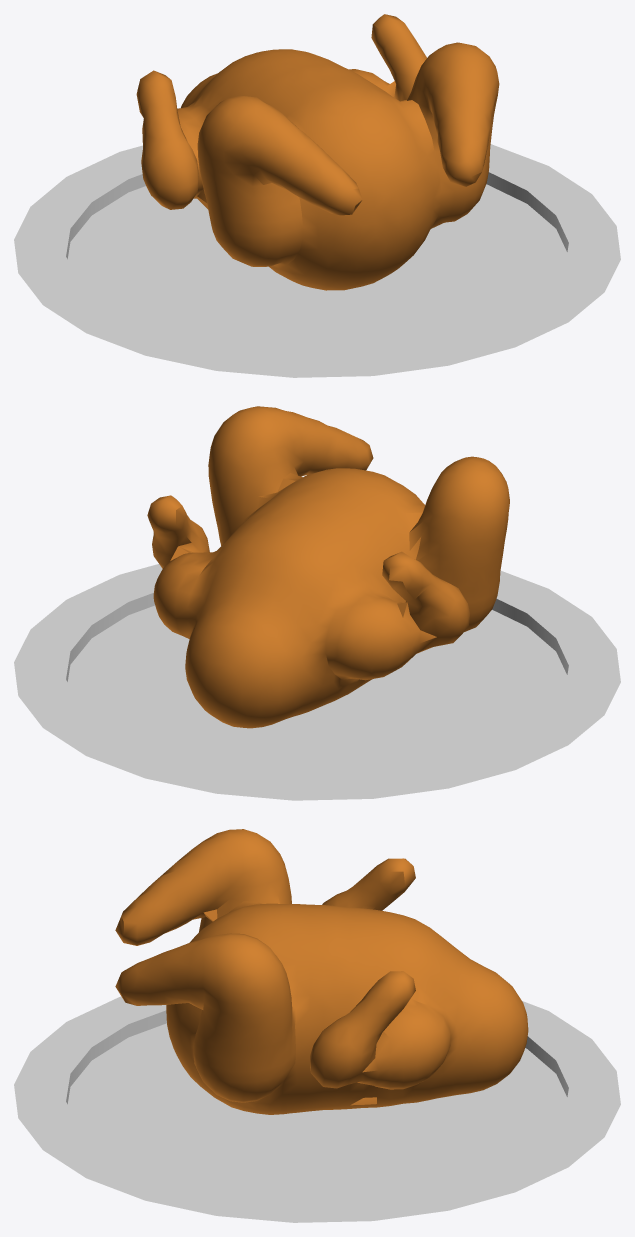
The model's file is cooked_turkey.dae.
3 views of the same model, one above another, from view 1: azimuth 30°, elevation 25°; view 2: azimuth 150°, elevation 25°; view 3: azimuth 270°, elevation 25° (orthographic).
Parts seen in each view (by area): view 1: skp491A (×3), Component_168; view 2: skp491A (×3), Component_168; view 3: skp491A (×3), Component_168.
Part boxes in pixels (left/top/right/bottom): skp491A (×3): left=14, top=144, right=620, bottom=377; Component_168: left=136, top=14, right=499, bottom=290; skp491A (×3): left=14, top=564, right=620, bottom=800; Component_168: left=147, top=406, right=509, bottom=728; skp491A (×3): left=14, top=996, right=620, bottom=1222; Component_168: left=115, top=829, right=528, bottom=1114.
Bounding box in the file's own units: 44.12 × 44.12 × 17.67.
